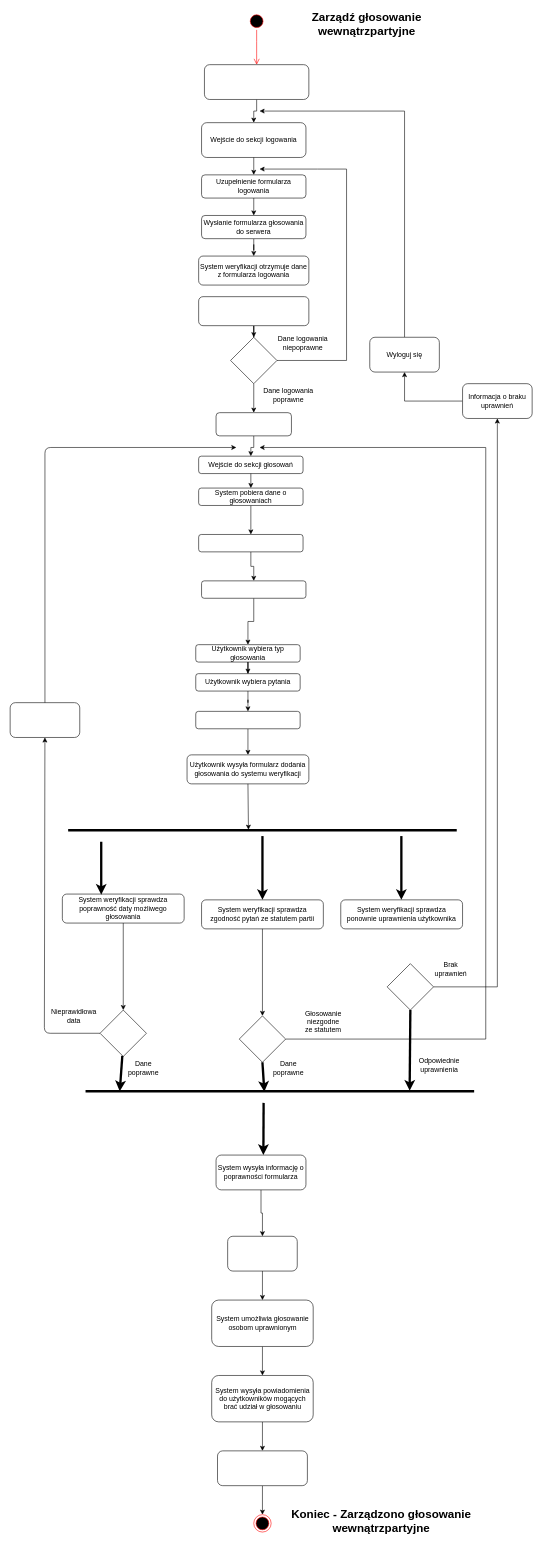
The diagram is 542 pixels wide and 1544 high, and some of its shapes have lost their labels. The shapes that lost their labels are listed below. From the top down, each one's box as (x1, y1, x2, y2) in pixels, then its label:
(204, 64, 309, 99): Wejście na stronę/do aplikacji przez użytkownika
(198, 296, 309, 326): System weryfikuje otrzymane dane
(215, 412, 291, 436): Użytkownik zalogowany
(198, 534, 303, 552): System wyświetla dane o głosowaniach
(201, 580, 306, 598): Użytkownik wchodzi w sekcję dodawania głosowania
(10, 702, 80, 737): Informacja o nieprawidłowej dacie
(195, 711, 300, 729): Użytkownik wybiera możliwe odpowiedzi
(227, 1236, 297, 1271): System umieszcza głosowanie w systemie
(217, 1450, 307, 1486): System informuje o dodaniu głosowania do systemu
